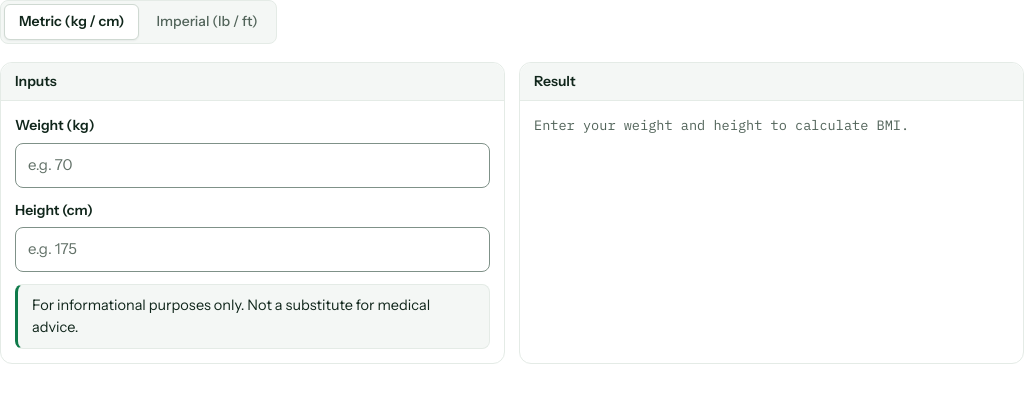
Test: BmiCalculator › calculates metric BMI: 70 kg, 175 cm → 22.9, Normal
This screenshot has width=1024, height=401.
Type "70" into the number field with placeholder "e.g. 70". click: {"x": 252, "y": 165}
box: [15,143,490,188]
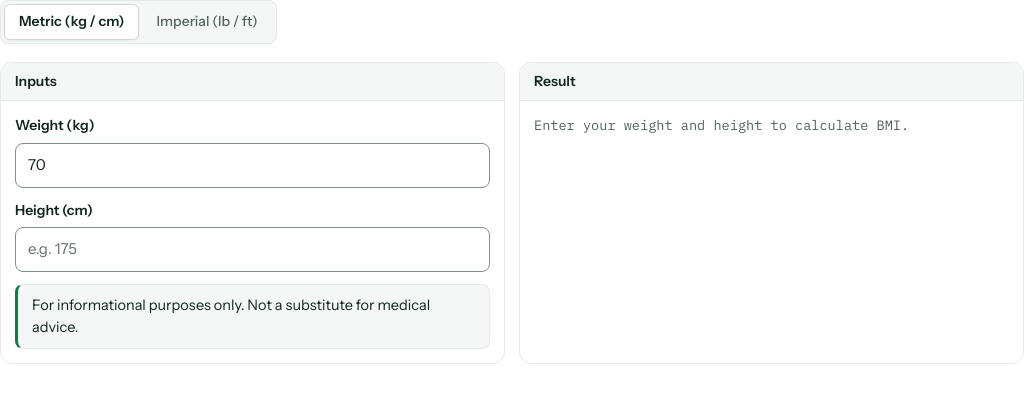
Type "175" into the number field with placeholder "e.g. 175". click: {"x": 252, "y": 250}
box: [15,227,490,272]
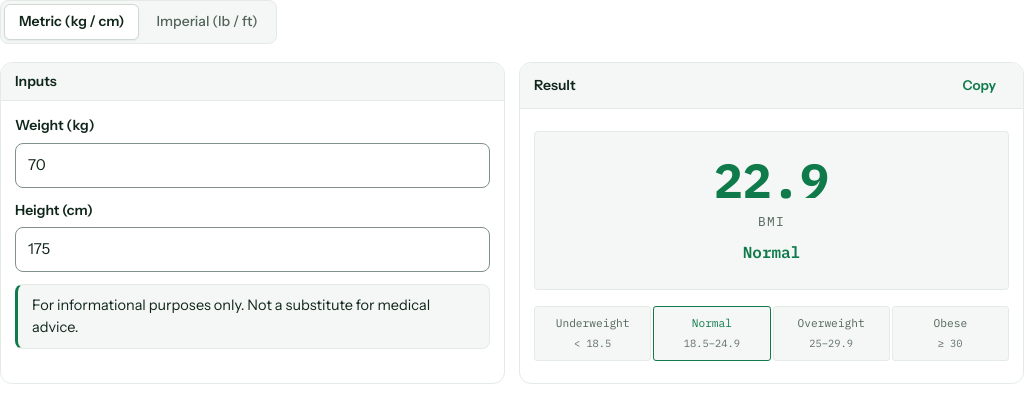
Expected: the text "22.9" is shown, [714,156,829,204]
